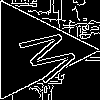W: (8, 25, 81, 89)
